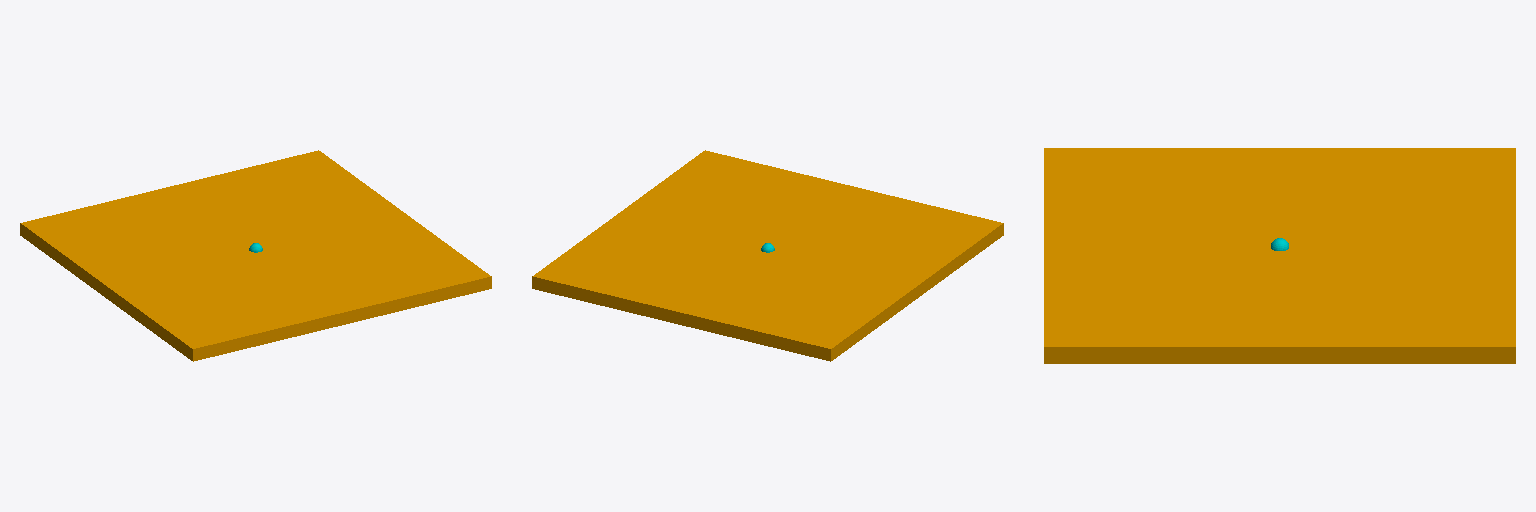
The robot description file, URDF, robot "Ball":
<?xml version="1.0"?>
<robot name="Ball">

  <link name="floor">
    <visual>
      <origin xyz="0 0 -0.05"/>
      <geometry>
        <box size="2.5 2.5 0.1"/>
      </geometry>
    </visual>
  </link>

  <link name="ball">
  <visual>
    <origin xyz="0 0 0"/>
    <geometry>
      <sphere radius=".05"/>
    </geometry>
    <material name="green">
      <color rgba="0 0.8 .8 .75"/>
    </material>
  </visual>
  <collision>
    <origin xyz="0. 0. 0."/>
    <geometry>
      <sphere radius="0"/>
    </geometry>
  </collision>
  <inertial>
    <mass value="1."/>
    <inertia ixx="1e-6" ixy="0." ixz="0." iyy="1e-6" iyz="0." izz="1e-6"/>
  </inertial>
  </link>

  <joint name="floor_to_ball" type="fixed">
    <parent link="floor"/>
    <child link="ball"/>
    <origin xyz="0 0 0"/>
  </joint>

</robot>

--- Render facts (derived) ---
The picture shows the robot from 3 angles, left to right: view 1: azimuth 30°, elevation 25°; view 2: azimuth 150°, elevation 25°; view 3: azimuth 270°, elevation 25°; orthographic projection.
Model Ball with 2 links and 1 joints (1 fixed), rooted at floor, posed every joint at zero.
Links seen in each view (by area): view 1: floor; view 2: floor; view 3: floor.
Boxes of the visible links, bbox=[...] form: floor: bbox=[20, 150, 491, 361]; floor: bbox=[532, 150, 1003, 361]; floor: bbox=[1044, 148, 1515, 363].
Size in the robot's own frame: 2.5 by 2.5 by 0.15 metres.
Geometry: primitives only (box / cylinder / sphere), no mesh files.